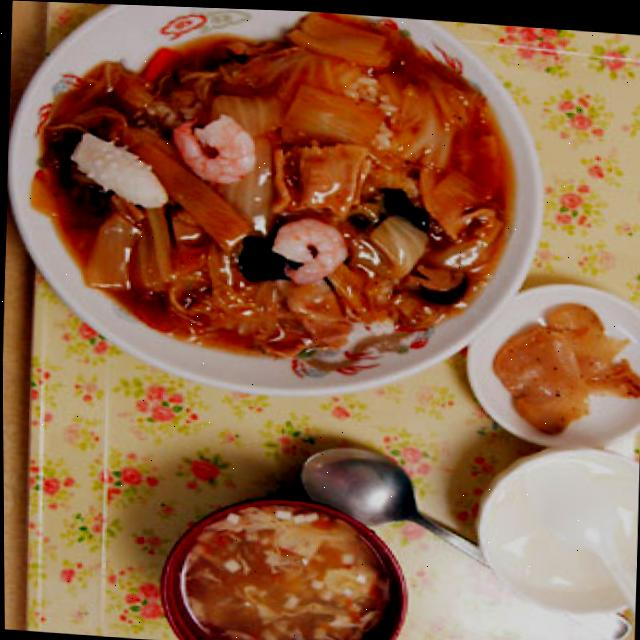汤锅炖物: (146, 475, 418, 640)
